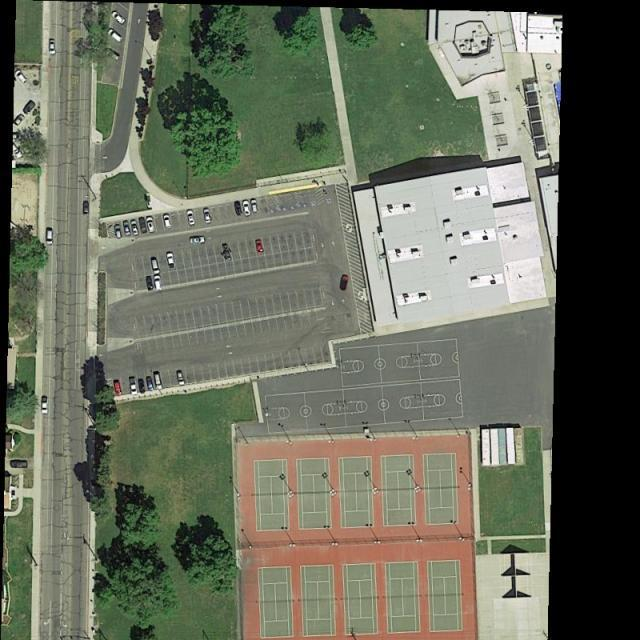vehicle: (106, 27, 125, 45), (104, 47, 121, 63), (110, 10, 127, 26), (14, 69, 30, 86), (22, 98, 37, 115), (150, 257, 162, 276), (222, 242, 233, 262), (338, 274, 350, 292), (145, 217, 157, 234), (166, 252, 177, 269), (122, 219, 132, 237), (161, 214, 172, 230), (129, 376, 138, 395), (154, 371, 163, 390), (138, 217, 148, 234), (176, 370, 186, 387), (13, 113, 26, 126), (10, 460, 28, 469), (113, 379, 122, 397), (146, 375, 155, 392), (189, 236, 206, 245), (242, 201, 251, 218), (130, 220, 139, 236), (46, 227, 54, 245), (40, 396, 48, 414), (145, 276, 154, 292), (186, 210, 195, 226), (154, 276, 163, 292), (202, 209, 211, 225), (254, 239, 264, 253), (250, 199, 259, 214), (138, 378, 146, 394), (234, 201, 242, 217), (114, 225, 122, 239), (82, 201, 90, 215), (49, 38, 56, 54)
